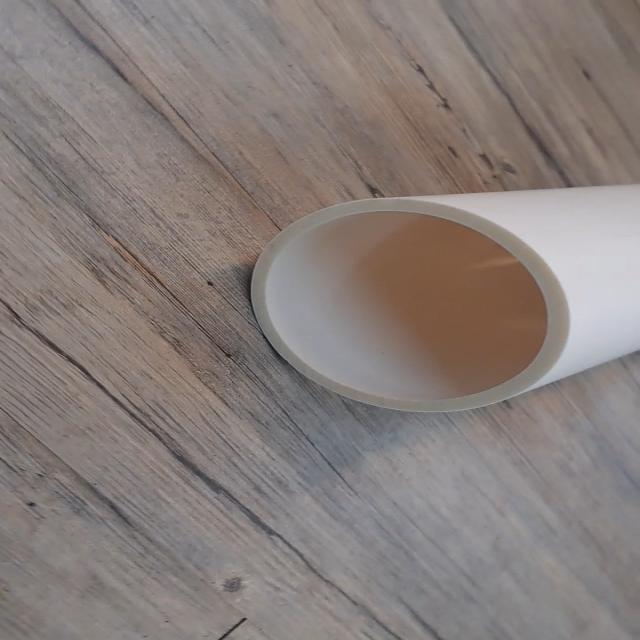CORAL: (237, 167, 640, 422)
